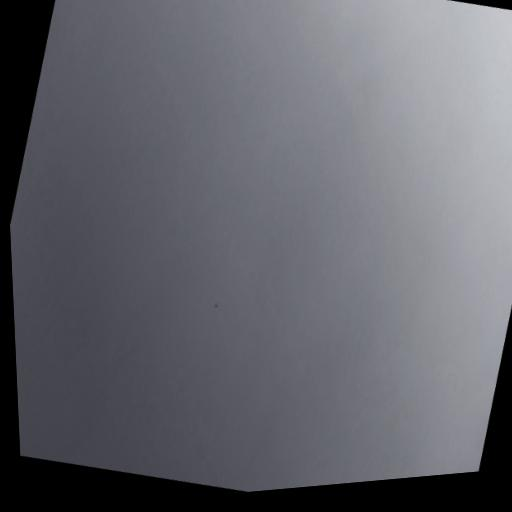drones: (212, 301, 220, 311)
